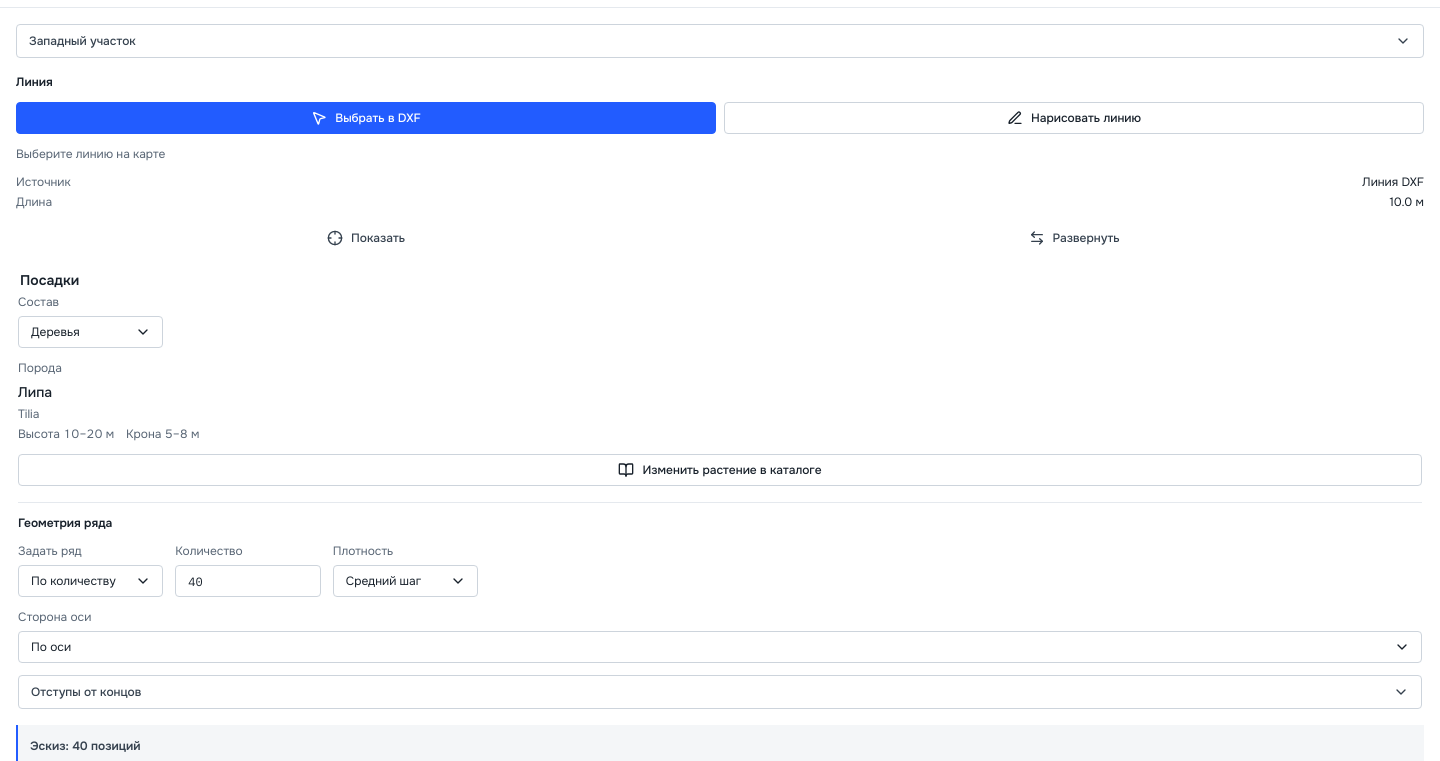
Scenario: PatternToolPanel › rejects offsets longer than the selected axis before requesting calculation
Click the button "Отступы от концов" at (86, 692), box [19,676,1421,708]
(page scrolled)
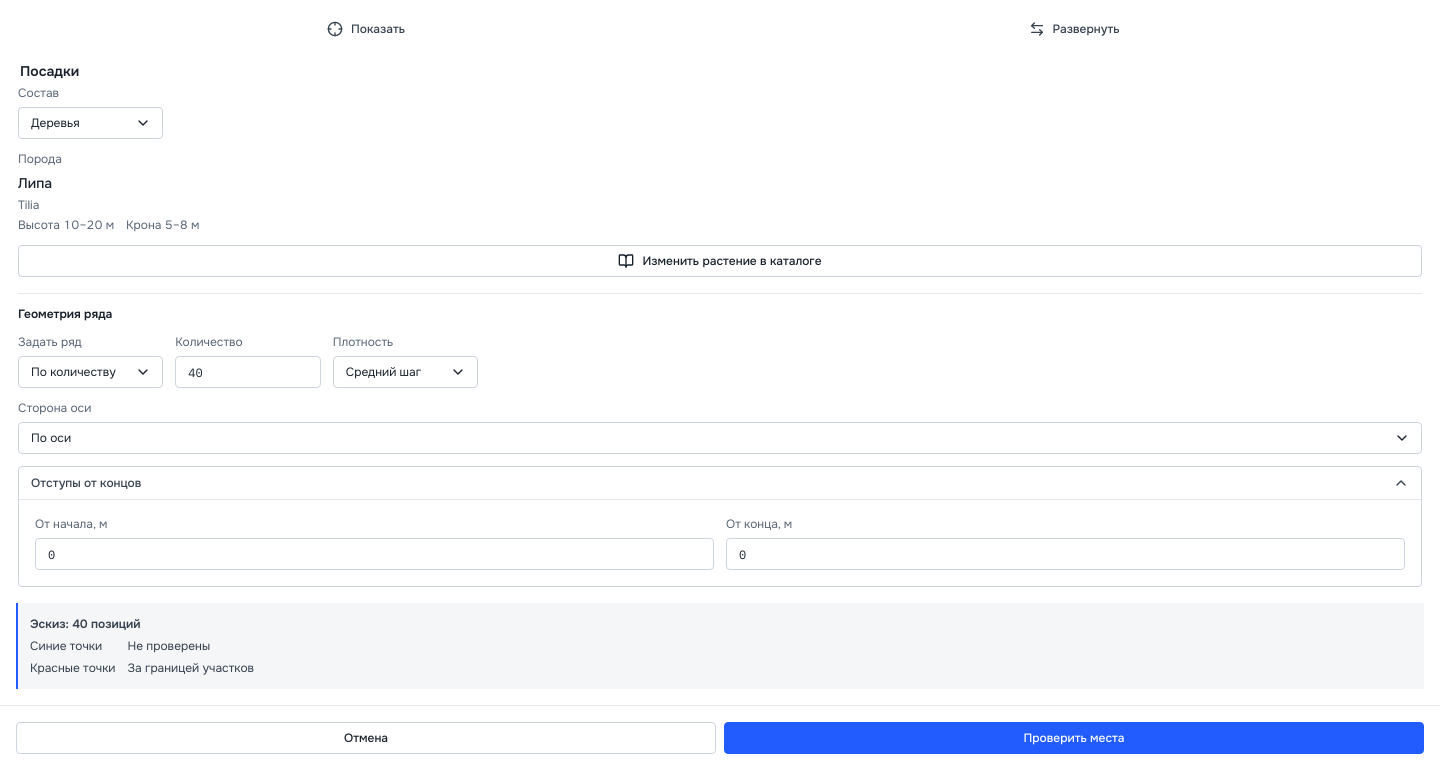
Replace the text in the number field named "Отступ от начала" with "20" at (374, 554), box [35,538,714,570]
(page scrolled)
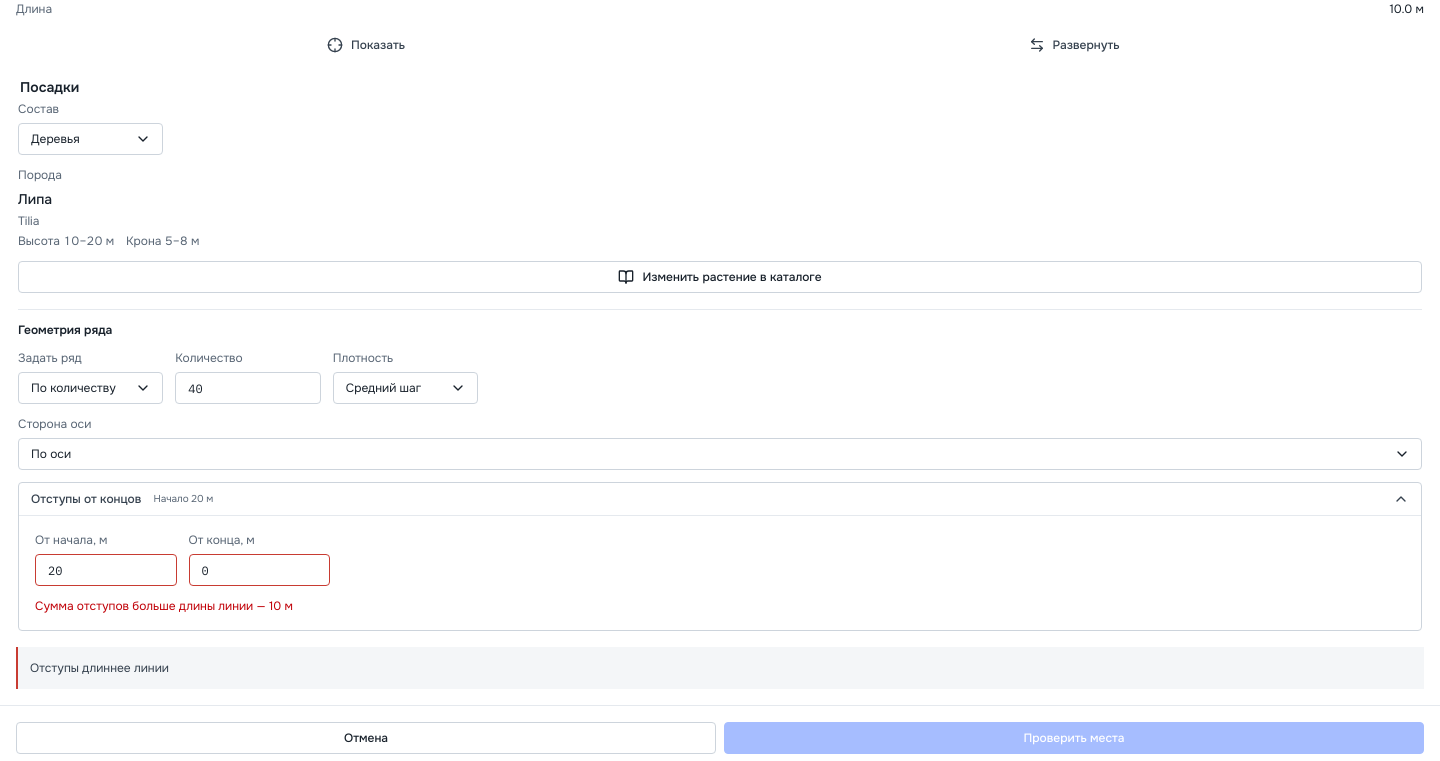
Now the text "Отступы длиннее линии" is shown, box [30,659,169,677]
Now the button "Проверить места" is disabled, box [724,722,1424,754]
